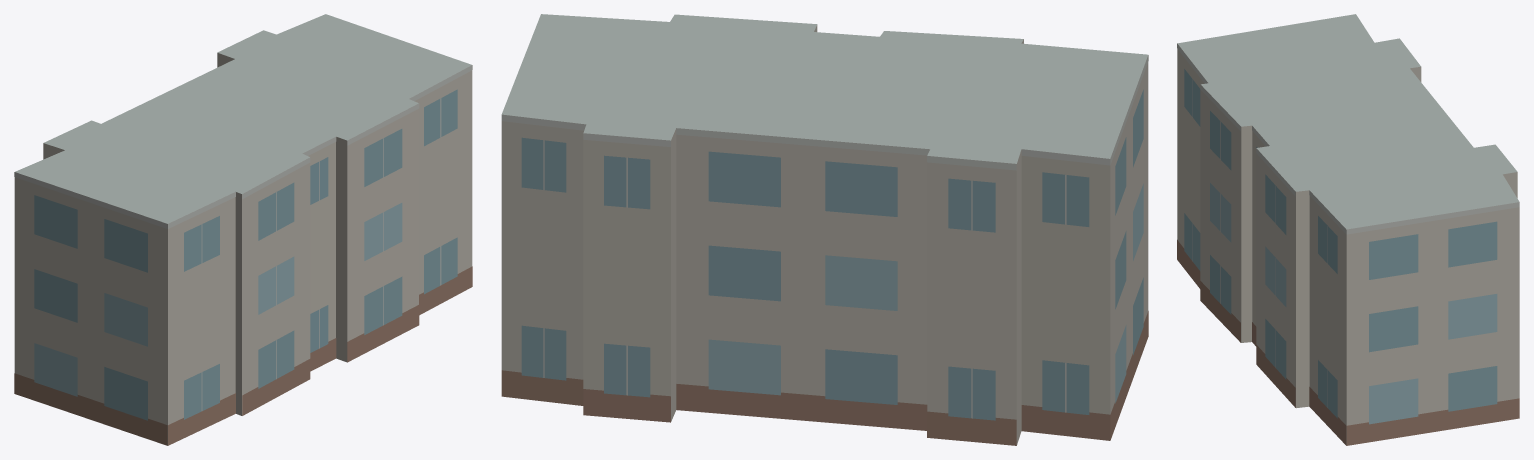
File: survey-upis-32864837.glb
The picture shows the model from 3 angles, left to right: view 1: azimuth 30°, elevation 25°; view 2: azimuth 150°, elevation 25°; view 3: azimuth 270°, elevation 25°; orthographic projection. The views are drawn at different scales.
Parts seen in each view (by area): view 1: survey-upis-32864837.tmp; view 2: survey-upis-32864837.tmp; view 3: survey-upis-32864837.tmp.
Part boxes in pixels (x1,y1,x2,y2): survey-upis-32864837.tmp: [14, 14, 472, 445]; survey-upis-32864837.tmp: [501, 14, 1148, 445]; survey-upis-32864837.tmp: [1177, 14, 1519, 445].
Size of the model in its own units: 22.22 by 10.4 by 14.93.
